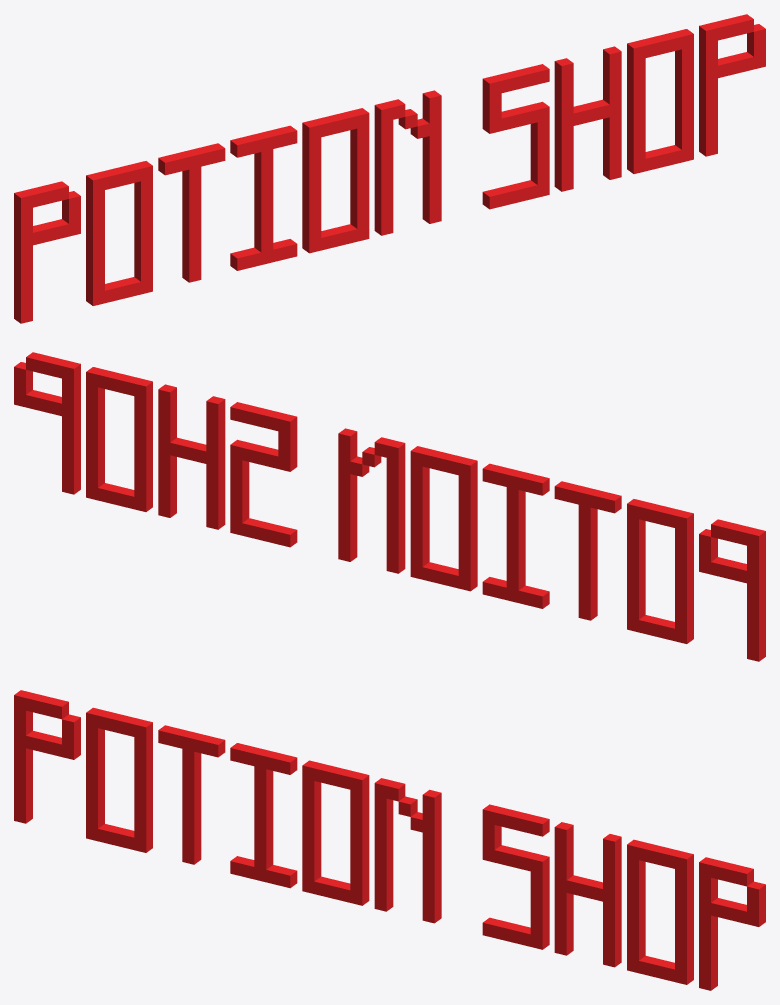
The model's file is PotionShop.obj.
3 views of the same model, one above another, from view 1: azimuth 30°, elevation 25°; view 2: azimuth 150°, elevation 25°; view 3: azimuth 330°, elevation 25° (orthographic).
Bounding box in the file's own units: 6.2 × 1 × 0.1.
Materials: 1 (1 with a texture image).
